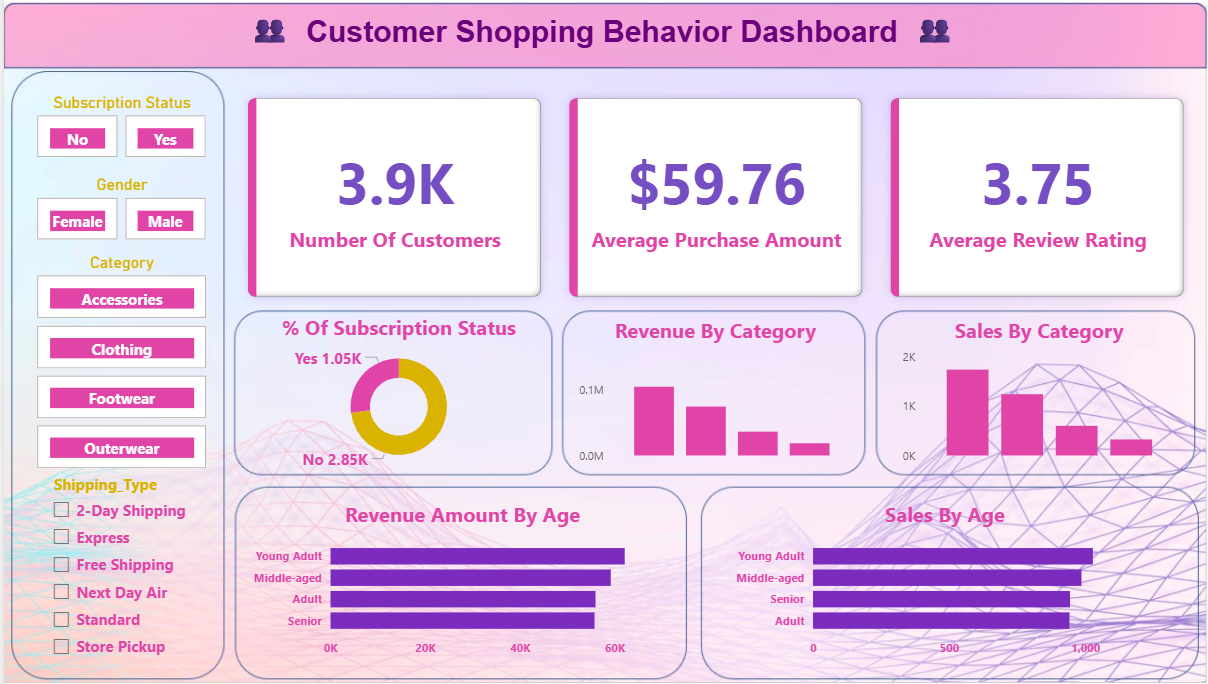

What the dashboard file says about the page in this screenshot:
{"tool":"powerbi","page":{"name":"Page 1","canvas":[1278,778],"ordinal":0},"visuals":[{"type":"cardVisual","fields":{"Data":["customer_behaviour customer.Number Of Customers","customer_behaviour customer.Average Purchase Amount","customer_behaviour customer.Average Review Rating"]},"box":[241.5,108.4,1029.2,245.6],"z":0},{"type":"donutChart","title":"% Of Subscription Status","fields":{"Category":["customer_behaviour customer.subscription_status"],"Y":["CountNonNull(customer_behaviour customer.customer_id)"]},"box":[270.8,353.9,297,170.8],"z":1},{"type":"clusteredColumnChart","title":"Revenue By Category","fields":{"Y":["Sum(customer_behaviour customer.purchase_amount)"],"Category":["customer_behaviour customer.category"]},"box":[604.8,358.5,300.1,161.6],"z":3},{"type":"clusteredColumnChart","title":"Sales By Category","fields":{"Category":["customer_behaviour customer.category"],"Y":["CountNonNull(customer_behaviour customer.customer_id)"]},"box":[947.9,358.5,300.1,161.6],"z":4},{"type":"advancedSlicerVisual","fields":{"Values":["customer_behaviour customer.subscription_status"]},"box":[30.8,120,189.3,73.9],"z":5},{"type":"advancedSlicerVisual","fields":{"Values":["customer_behaviour customer.gender"]},"box":[30.8,207.7,189.3,73.9],"z":6},{"type":"advancedSlicerVisual","fields":{"Values":["customer_behaviour customer.category"]},"box":[30.8,290.8,189.3,233.9],"z":7},{"type":"slicer","fields":{"Values":["customer_behaviour customer.shipping_type"]},"box":[40,519.9,166.4,207.7],"z":8},{"type":"clusteredBarChart","title":"Revenue Amount By Age","fields":{"Y":["Sum(customer_behaviour customer.purchase_amount)"],"Category":["customer_behaviour customer.age_group"]},"box":[258.5,552.4,455.5,175.4],"z":9},{"type":"clusteredBarChart","title":"Sales By Age","fields":{"Category":["customer_behaviour customer.age_group"],"Y":["Count(customer_behaviour customer.customer_id)"]},"box":[771,552.4,455.5,175.4],"z":10},{"type":"textbox","box":[270.5,33.1,727.9,59.7],"z":11},{"type":"textbox","box":[220.1,23.9,124.6,68.9],"z":12},{"type":"textbox","box":[934.7,23.9,106.1,59.7],"z":13}]}

Visuals, with their boxes on the page's 1278x778 design canvas (x1, y1, x2, y2). These are canvas units, not pixel positions in the 1208x684 screenshot, which may show the page scaled, cropped or inside an application window:
cardVisual - customer_behaviour customer.Number Of Customers x customer_behaviour customer.Average Purchase Amount: [x1=242, y1=108, x2=1271, y2=354]
"% Of Subscription Status" donutChart: [x1=271, y1=354, x2=568, y2=525]
"Revenue By Category" clusteredColumnChart: [x1=605, y1=358, x2=905, y2=520]
"Sales By Category" clusteredColumnChart: [x1=948, y1=358, x2=1248, y2=520]
advancedSlicerVisual - customer_behaviour customer.subscription_status: [x1=31, y1=120, x2=220, y2=194]
advancedSlicerVisual - customer_behaviour customer.gender: [x1=31, y1=208, x2=220, y2=282]
advancedSlicerVisual - customer_behaviour customer.category: [x1=31, y1=291, x2=220, y2=525]
slicer - customer_behaviour customer.shipping_type: [x1=40, y1=520, x2=206, y2=728]
"Revenue Amount By Age" clusteredBarChart: [x1=258, y1=552, x2=714, y2=728]
"Sales By Age" clusteredBarChart: [x1=771, y1=552, x2=1226, y2=728]
textbox: [x1=270, y1=33, x2=998, y2=93]
textbox: [x1=220, y1=24, x2=345, y2=93]
textbox: [x1=935, y1=24, x2=1041, y2=84]
